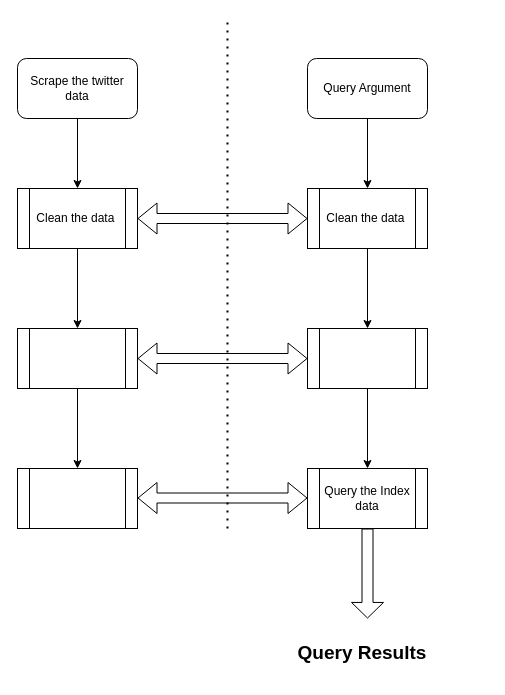
This 505x695 diagram has some shape labels left out. The shapes that lost their labels are listed below. From the top down, each one's box as (x1, y1, x2, y2) in pixels, then its label:
(16, 328, 138, 388): Vectorise the data using a deep learning model
(306, 328, 428, 388): Vectorise the query using deep learning
(16, 468, 138, 528): Index the data
